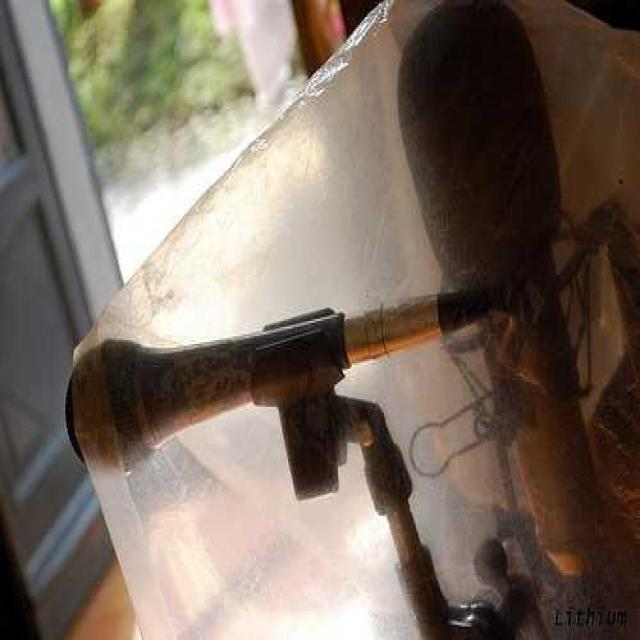microphone: (398, 8, 608, 584), (78, 286, 520, 468)
